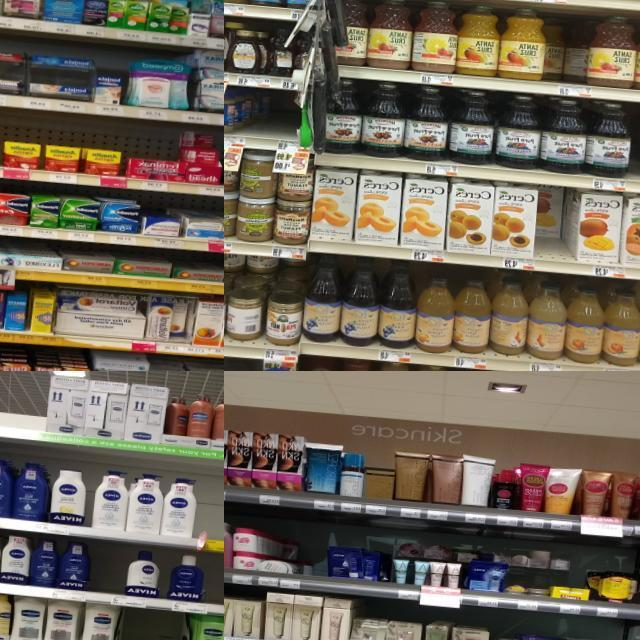empty: (258, 88, 299, 150), (87, 545, 125, 604), (192, 484, 224, 552), (120, 610, 180, 640), (307, 539, 330, 591), (207, 559, 224, 615)
